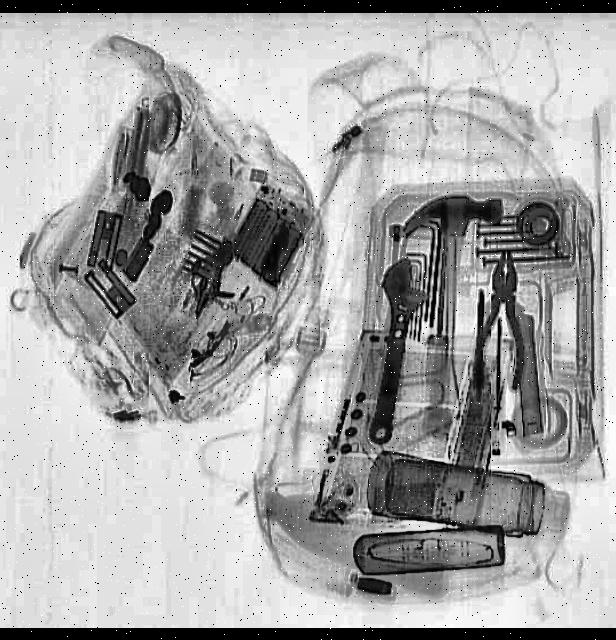Pliers: (470, 247, 530, 389)
Wrench: (351, 250, 435, 448)
